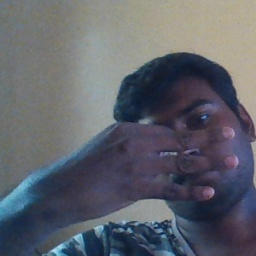K: (62, 114, 239, 220)
